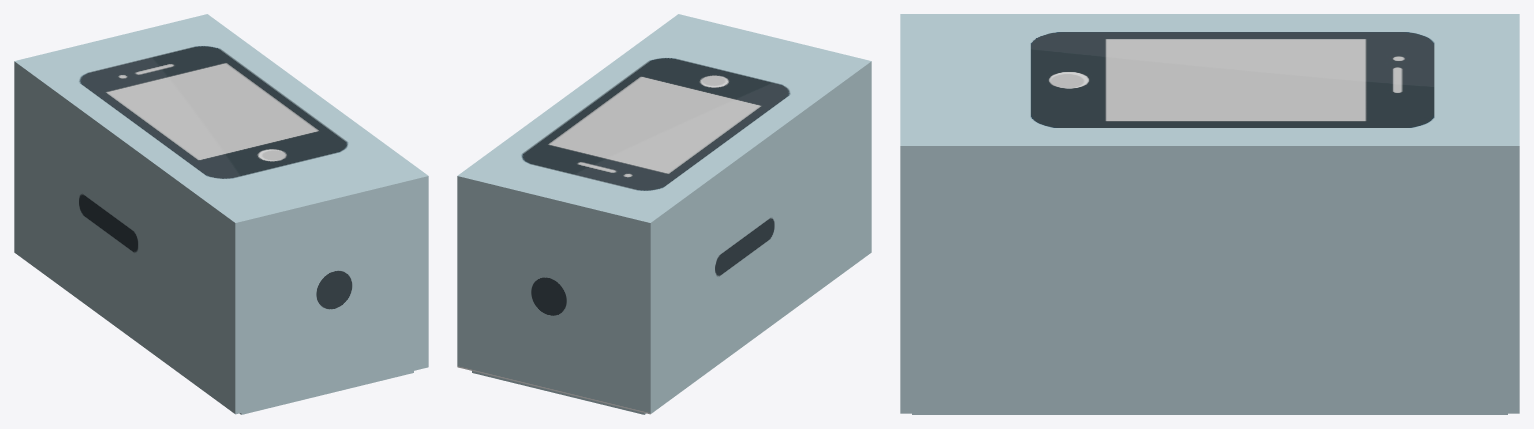
Rendered from Bomba_pack.fbx.
3 renders of one model, left to right at view 1: azimuth 30°, elevation 25°; view 2: azimuth 150°, elevation 25°; view 3: azimuth 270°, elevation 25°, orthographic. The views are drawn at different scales.
Parts seen in each view (by area): view 1: phone_pack_cap, Phone_pack; view 2: phone_pack_cap, Phone_pack; view 3: phone_pack_cap, Phone_pack.
Part boxes in pixels (bbox=[...]): phone_pack_cap: bbox=[14, 14, 428, 414]; Phone_pack: bbox=[239, 371, 413, 414]; phone_pack_cap: bbox=[457, 14, 871, 414]; Phone_pack: bbox=[472, 371, 646, 414]; phone_pack_cap: bbox=[900, 14, 1519, 413]; Phone_pack: bbox=[912, 413, 1507, 414].
Bounding box in the file's own units: 5.51 × 5.38 × 10.92.
